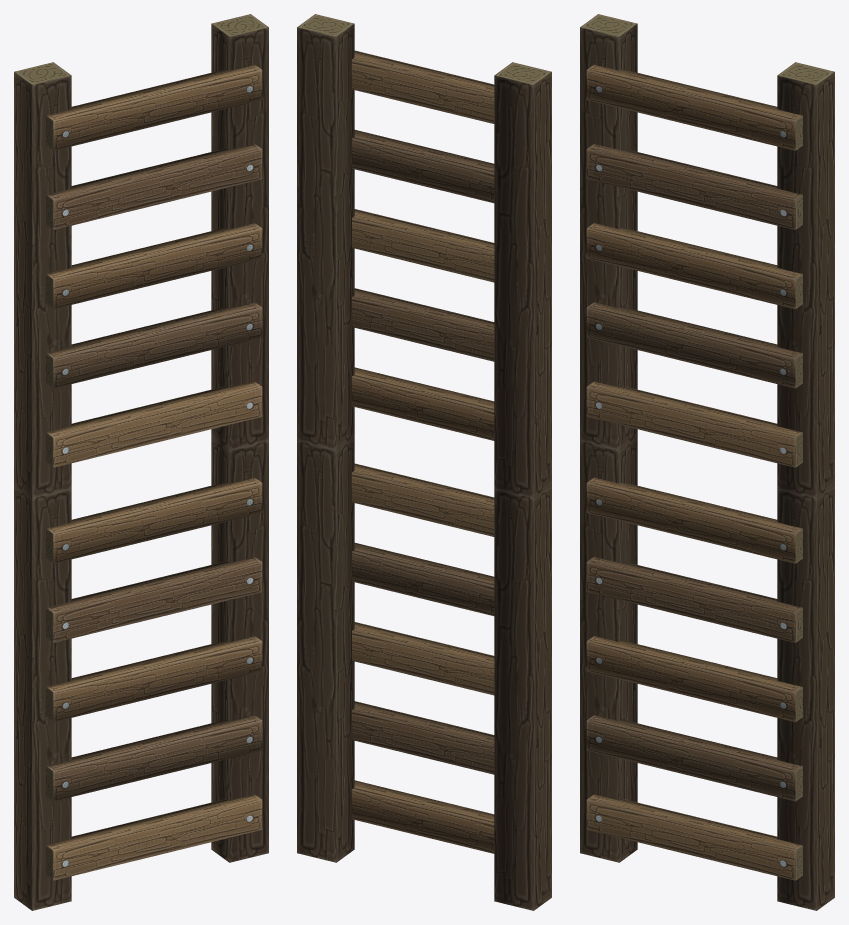
The model's file is SM_Ladder_2m_01_A.glb.
3 views of the same model, side by side, from view 1: azimuth 30°, elevation 25°; view 2: azimuth 150°, elevation 25°; view 3: azimuth 330°, elevation 25° (orthographic).
Visible parts, largest first — view 1: SM_Ladder_2m_01_A; view 2: SM_Ladder_2m_01_A; view 3: SM_Ladder_2m_01_A.
Boxes of the visible parts, x1,y1,x2,y2 form: SM_Ladder_2m_01_A: (14,14,268,910); SM_Ladder_2m_01_A: (297,14,551,910); SM_Ladder_2m_01_A: (580,14,834,910).
Bounding box in the file's own units: 0.6 × 2 × 0.1116.
1 material, 1 textured.
